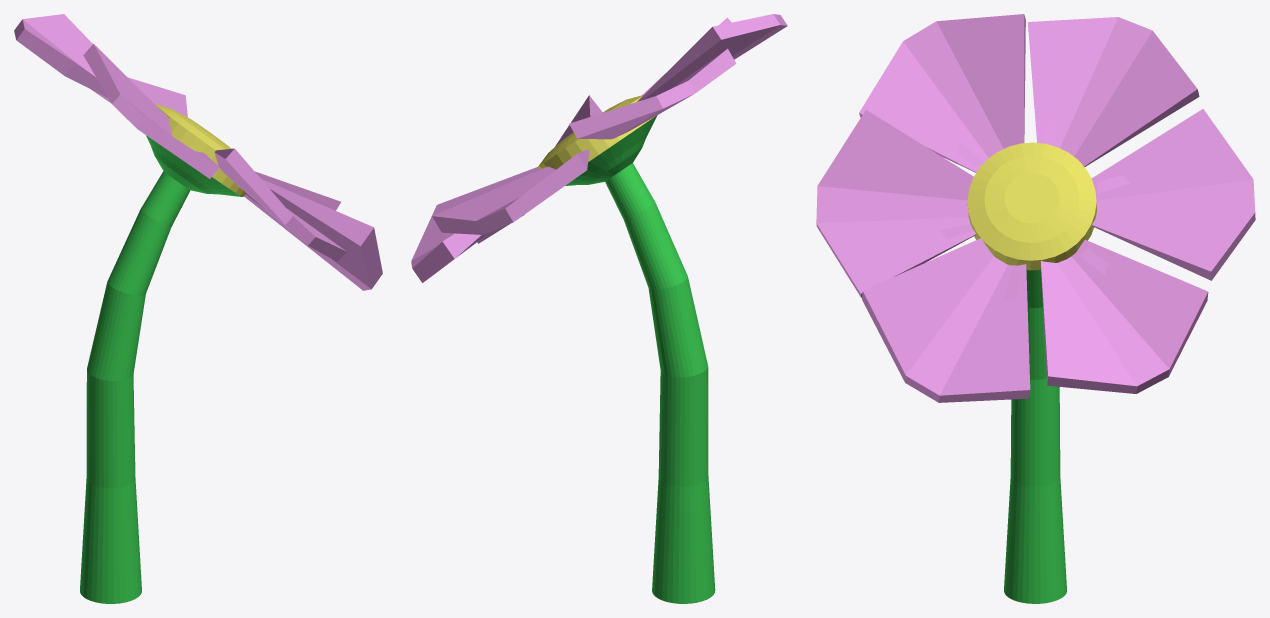
Rendered from Flower-1.1.fbx.
The picture shows the model from 3 angles, left to right: view 1: azimuth 30°, elevation 25°; view 2: azimuth 150°, elevation 25°; view 3: azimuth 270°, elevation 25°; orthographic projection.
Parts seen in each view (by area): view 1: Cylinder.008, Cylinder.003; view 2: Cylinder.008, Cylinder.003; view 3: Cylinder.003, Cylinder.008.
Boxes of the visible parts, x1,y1,x2,y2 form: Cylinder.008: (80,103,245,603); Cylinder.003: (14,14,382,290); Cylinder.008: (538,95,715,603); Cylinder.003: (411,14,787,282); Cylinder.003: (816,14,1255,402); Cylinder.008: (967,142,1096,603).
Size of the model in its own units: 2.34 by 1.81 by 3.33.
